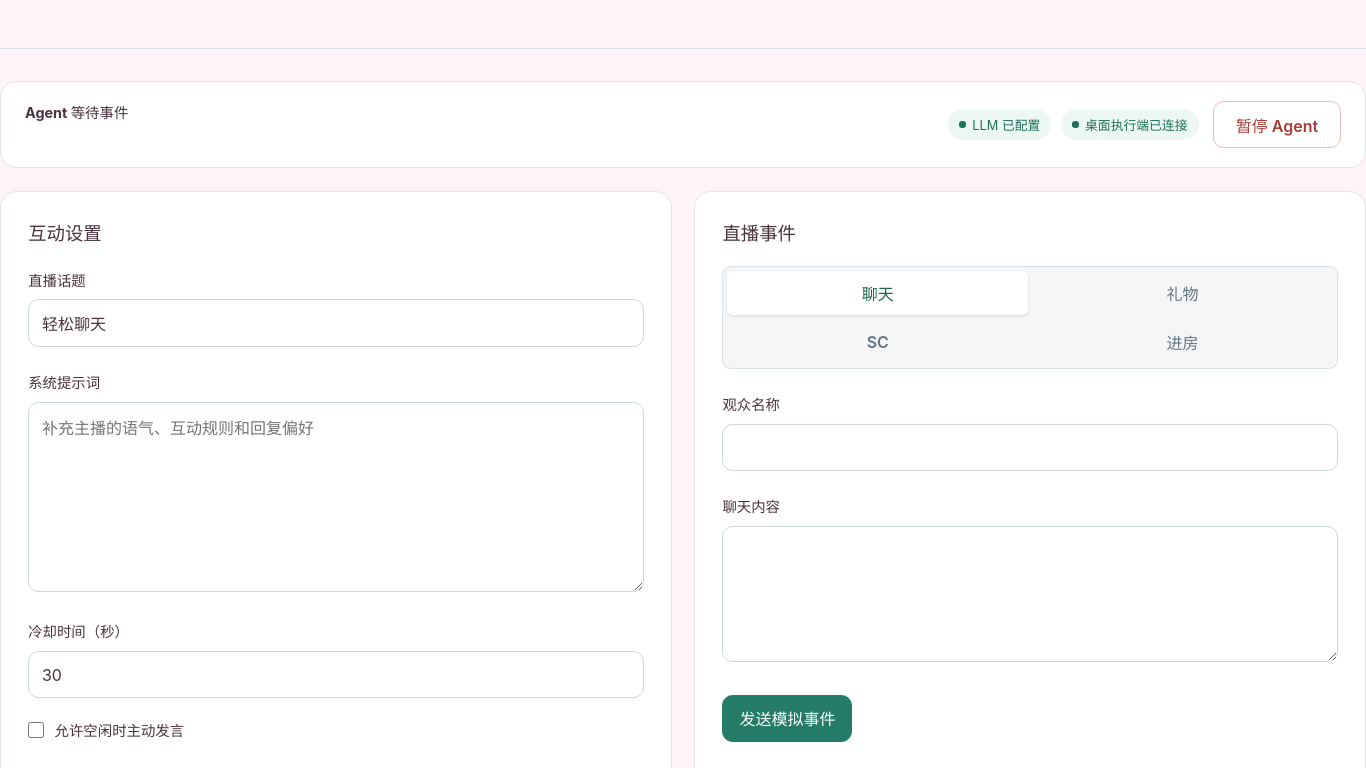
Test: Agent 轮询生命周期 › 控制结果不会被先前 GET 的迟到响应覆盖
What coordinates should you click on to do the following:
click the button "暂停 Agent"
I would click on:
 (1277, 125)
Its box is [1213,101,1341,148].
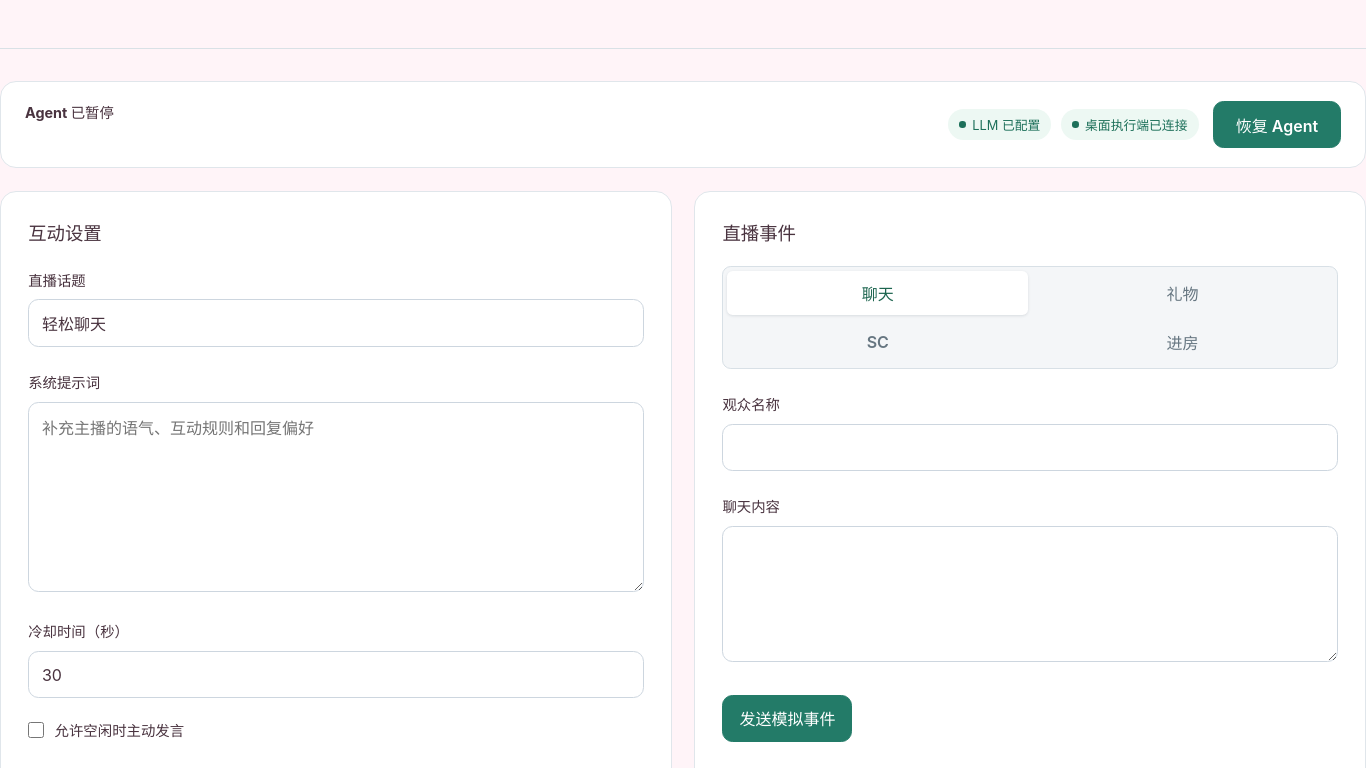
Result: the heading "Agent 已暂停" is shown at [25,101,114,122]
